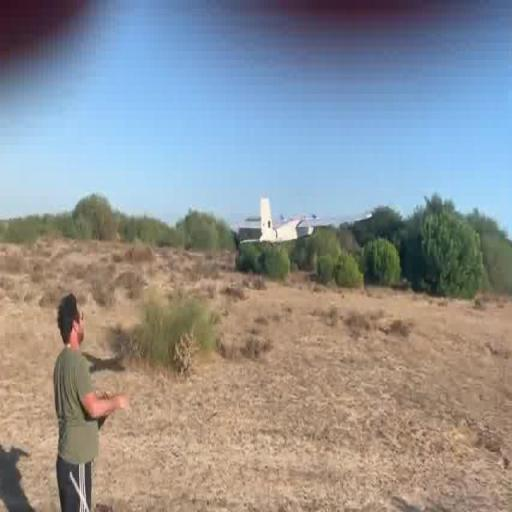uav: (240, 195, 374, 249)
